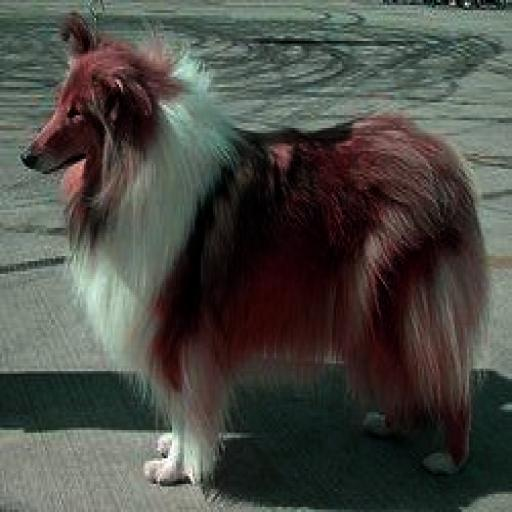dog_face: (16, 22, 150, 193)
